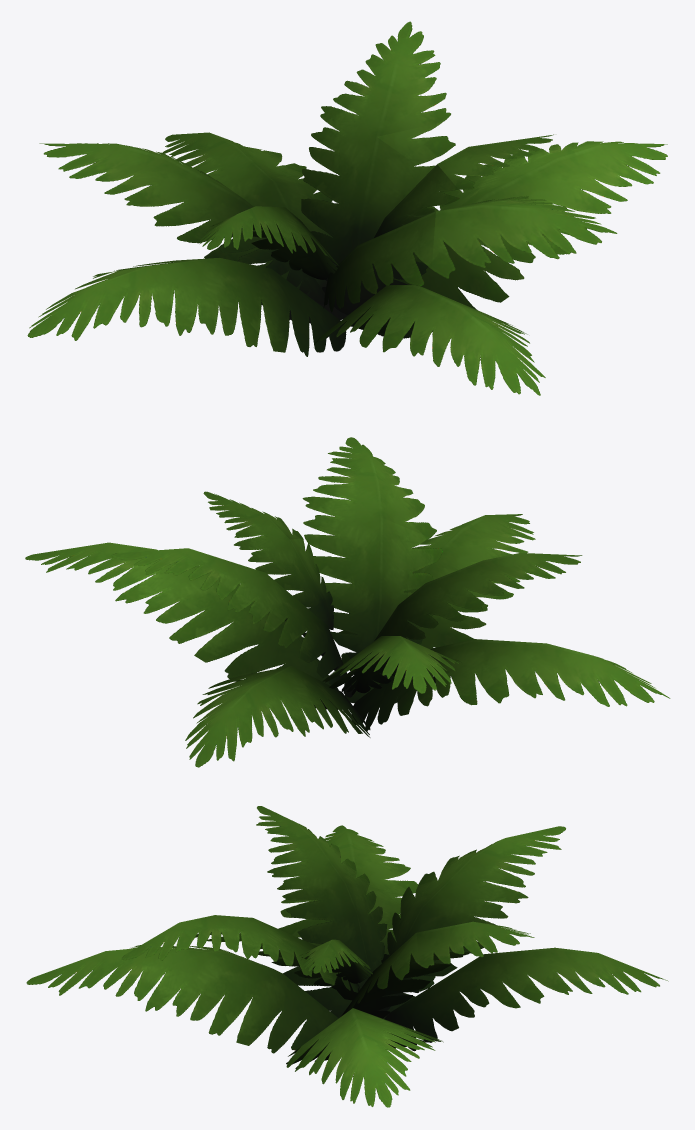
Rendered from Fern_1.gltf.
3 views of the same model, one above another, from view 1: azimuth 30°, elevation 25°; view 2: azimuth 150°, elevation 25°; view 3: azimuth 270°, elevation 25° (orthographic). The views are drawn at different scales.
Parts seen in each view (by area): view 1: Fern_1; view 2: Fern_1; view 3: Fern_1.
Part boxes in pixels (left/top/right/bottom): Fern_1: left=27, top=21, right=667, bottom=395; Fern_1: left=25, top=437, right=670, bottom=767; Fern_1: left=26, top=806, right=668, bottom=1107.
Bounding box in the file's own units: 2.83 × 0.8402 × 2.65.
1 material, 1 textured.
